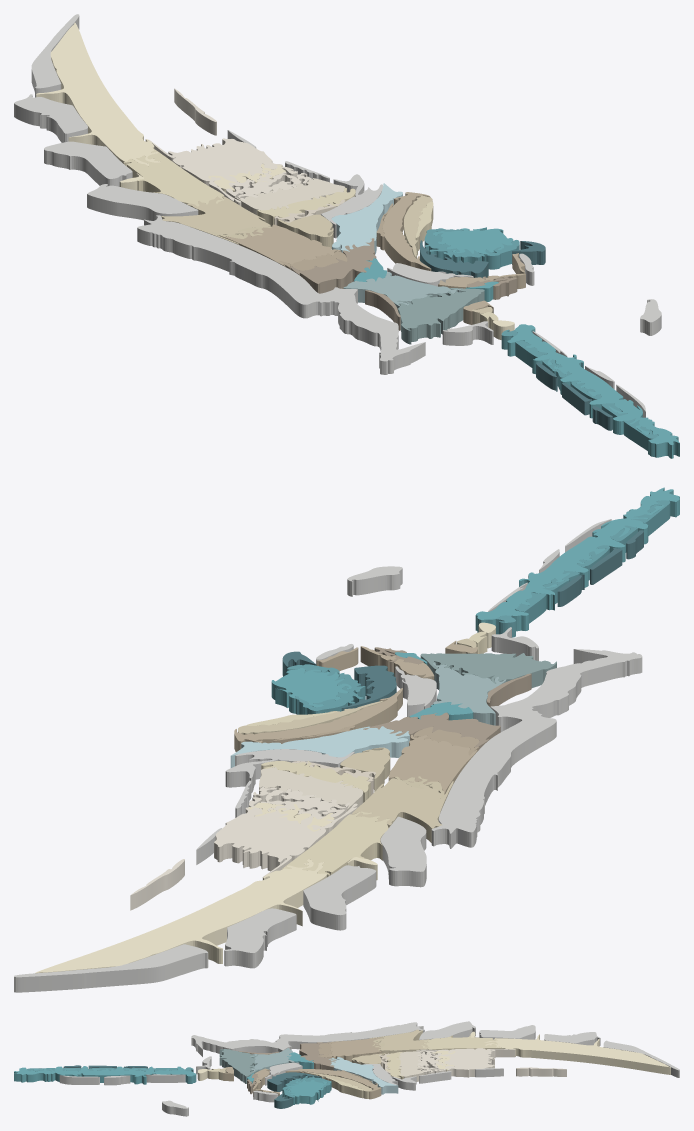
The model's file is sword2.fbx.
3 views of the same model, one above another, from view 1: azimuth 30°, elevation 25°; view 2: azimuth 150°, elevation 25°; view 3: azimuth 270°, elevation 25° (orthographic). The views are drawn at different scales.
Visible parts, largest first — view 1: imagetostl_mesh; view 2: imagetostl_mesh; view 3: imagetostl_mesh.
Boxes of the visible parts, x1,y1,x2,y2 form: imagetostl_mesh: (14, 14, 679, 458); imagetostl_mesh: (14, 487, 679, 992); imagetostl_mesh: (14, 1021, 679, 1116).
Bounding box in the file's own units: 7302 × 300 × 23525.
